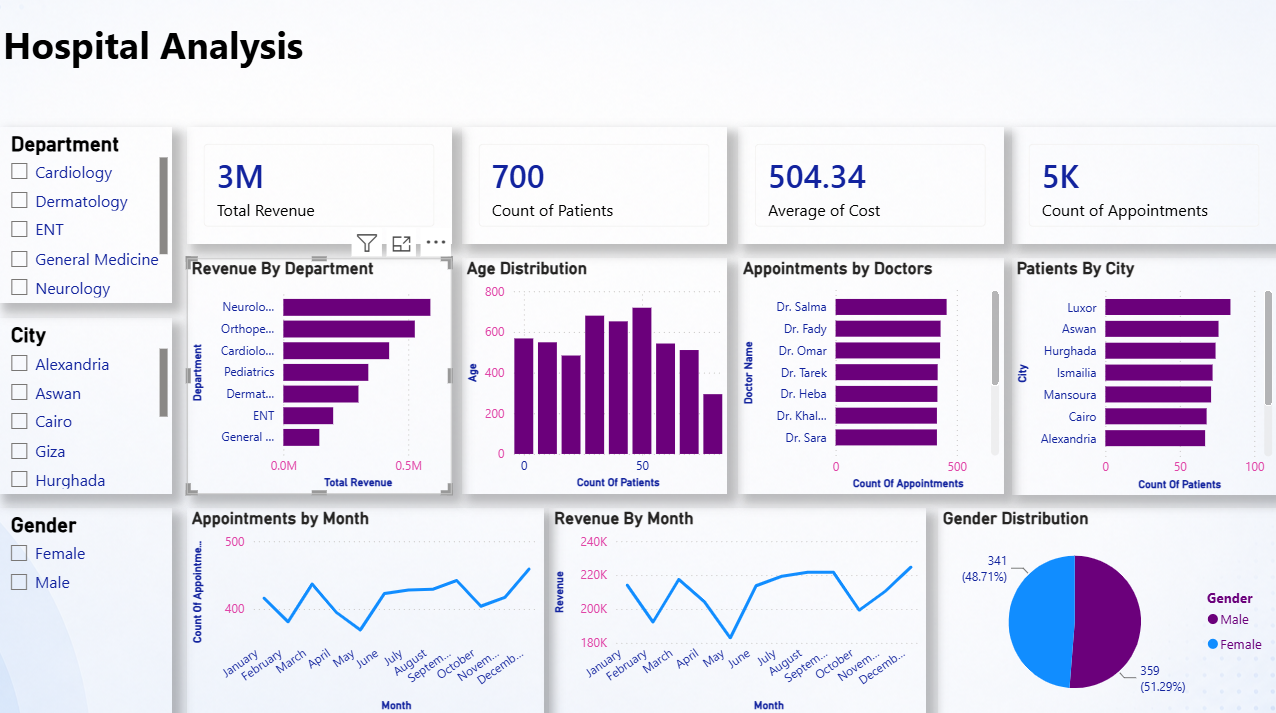

Layout of this report page (visuals, bound fields, positions):
{"tool":"powerbi","page":{"name":"Hospital  Performance Dashboard","canvas":[1280,720],"ordinal":0},"visuals":[{"type":"textbox","box":[0,0,1280,77.1],"z":0},{"type":"cardVisual","fields":{"Data":["Hospital_Analysis.Total Revenue"]},"box":[188.6,130,265.7,117.1],"z":1000},{"type":"cardVisual","fields":{"Data":["Count(Hospital_Analysis.Patient_ID)"]},"box":[464.3,130,265.7,117.1],"z":2000},{"type":"cardVisual","fields":{"Data":["Count(Hospital_Analysis.Appointment_ID)"]},"box":[1014.3,130,265.7,117.1],"z":3000},{"type":"cardVisual","fields":{"Data":["Avg(Hospital_Analysis.Cost)"]},"box":[740,130,265.7,117.1],"z":4000},{"type":"clusteredBarChart","title":"Revenue By Department","fields":{"Category":["Hospital_Analysis.Department"],"Y":["Sum(Hospital_Analysis.Cost)"]},"box":[188.6,261.4,265.7,235.7],"z":5000},{"type":"clusteredBarChart","title":"Appointments by Doctors","fields":{"Category":["Hospital_Analysis.Doctor_Name"],"Y":["CountNonNull(Hospital_Analysis.Appointment_ID)"]},"box":[740,261.2,266.2,236.2],"z":6000},{"type":"clusteredBarChart","title":"Patients By City","fields":{"Category":["Hospital_Analysis.City"],"Y":["Count(Hospital_Analysis.Patient_ID)"]},"box":[1014.3,261.4,265.7,237.1],"z":7000},{"type":"lineChart","title":"Appointments by Month","fields":{"Y":["CountNonNull(Hospital_Analysis.Appointment_ID)"],"Category":["Hospital_Analysis.Appointment_Date.Variation.Date Hierarchy.Month"]},"box":[188.6,511.4,357.1,208.6],"z":8000},{"type":"lineChart","title":"Revenue By Month","fields":{"Category":["Hospital_Analysis.Appointment_Date.Variation.Date Hierarchy.Month"],"Y":["Sum(Hospital_Analysis.Cost)"]},"box":[551.4,511.4,377.1,208.6],"z":9000},{"type":"pieChart","title":"Gender Distribution","fields":{"Category":["Hospital_Analysis.Gender"],"Y":["Count(Hospital_Analysis.Patient_ID)"]},"box":[940,511.4,340,208.6],"z":10000},{"type":"clusteredColumnChart","title":"Age Distribution","fields":{"Category":["Hospital_Analysis.Age (bins)"],"Y":["CountNonNull(Hospital_Analysis.Patient_ID)"]},"box":[464.3,261.4,265.7,235.7],"z":11000},{"type":"slicer","fields":{"Values":["Hospital_Analysis.Department"]},"box":[0,130,174.3,175.7],"z":12000},{"type":"slicer","fields":{"Values":["Hospital_Analysis.City"]},"box":[0,321.4,174.3,175.7],"z":13000},{"type":"slicer","fields":{"Values":["Hospital_Analysis.Gender"]},"box":[0,511.4,174.3,208.6],"z":14000}]}

Visuals, with their boxes in screenshot pixels (x1, y1, x2, y2), scaled from the page's 1280x720 canvas onto the 1276x713 screenshot:
textbox: pyautogui.locateOnScreen(0, 0, 1275, 76)
cardVisual - Hospital_Analysis.Total Revenue: pyautogui.locateOnScreen(188, 129, 453, 245)
cardVisual - Count(Hospital_Analysis.Patient_ID): pyautogui.locateOnScreen(463, 129, 728, 245)
cardVisual - Count(Hospital_Analysis.Appointment_ID): pyautogui.locateOnScreen(1011, 129, 1275, 245)
cardVisual - Avg(Hospital_Analysis.Cost): pyautogui.locateOnScreen(738, 129, 1003, 245)
"Revenue By Department" clusteredBarChart: pyautogui.locateOnScreen(188, 259, 453, 492)
"Appointments by Doctors" clusteredBarChart: pyautogui.locateOnScreen(738, 259, 1003, 493)
"Patients By City" clusteredBarChart: pyautogui.locateOnScreen(1011, 259, 1275, 494)
"Appointments by Month" lineChart: pyautogui.locateOnScreen(188, 506, 544, 712)
"Revenue By Month" lineChart: pyautogui.locateOnScreen(550, 506, 926, 712)
"Gender Distribution" pieChart: pyautogui.locateOnScreen(937, 506, 1275, 712)
"Age Distribution" clusteredColumnChart: pyautogui.locateOnScreen(463, 259, 728, 492)
slicer - Hospital_Analysis.Department: pyautogui.locateOnScreen(0, 129, 174, 303)
slicer - Hospital_Analysis.City: pyautogui.locateOnScreen(0, 318, 174, 492)
slicer - Hospital_Analysis.Gender: pyautogui.locateOnScreen(0, 506, 174, 712)
